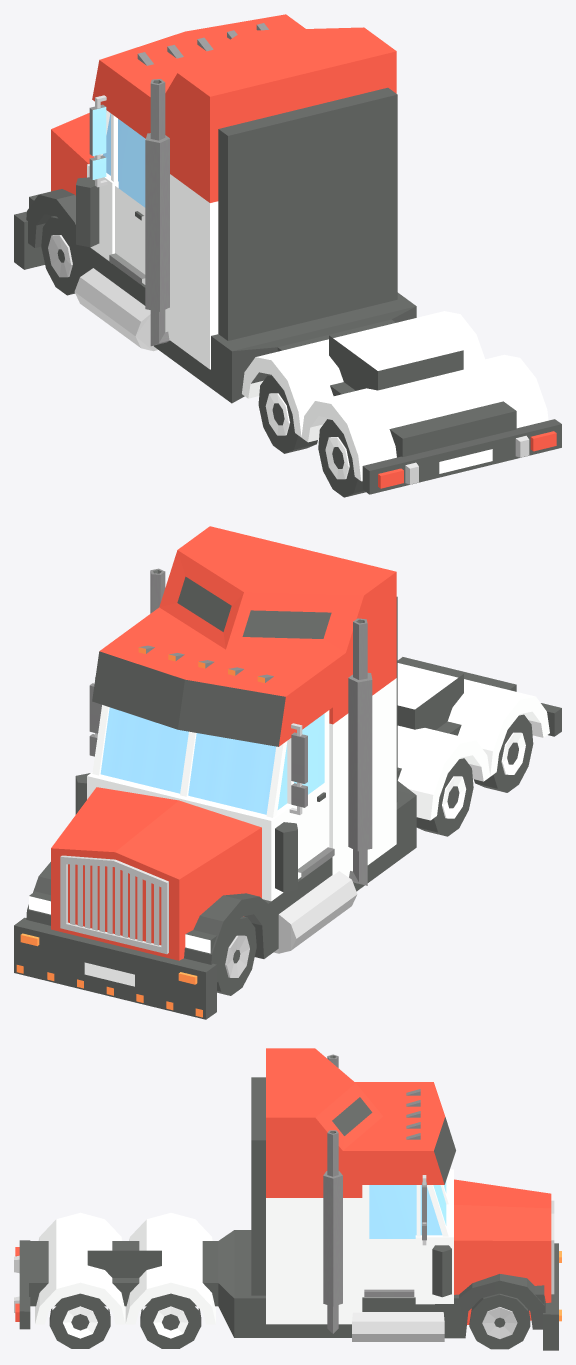
The model's file is transport_truck.003.glb.
3 renders of one model, top to bottom at view 1: azimuth 30°, elevation 25°; view 2: azimuth 150°, elevation 25°; view 3: azimuth 270°, elevation 25°, orthographic. The views are drawn at different scales.
Parts seen in each view (by area): view 1: transport_truck.003(Clone); view 2: transport_truck.003(Clone); view 3: transport_truck.003(Clone).
Boxes of the visible parts, bbox=[...] form: transport_truck.003(Clone): bbox=[14, 14, 561, 497]; transport_truck.003(Clone): bbox=[14, 526, 561, 1019]; transport_truck.003(Clone): bbox=[14, 1048, 561, 1350].
Bounding box in the file's own units: 2.13 × 2.77 × 5.87.
1 material, 1 textured.
